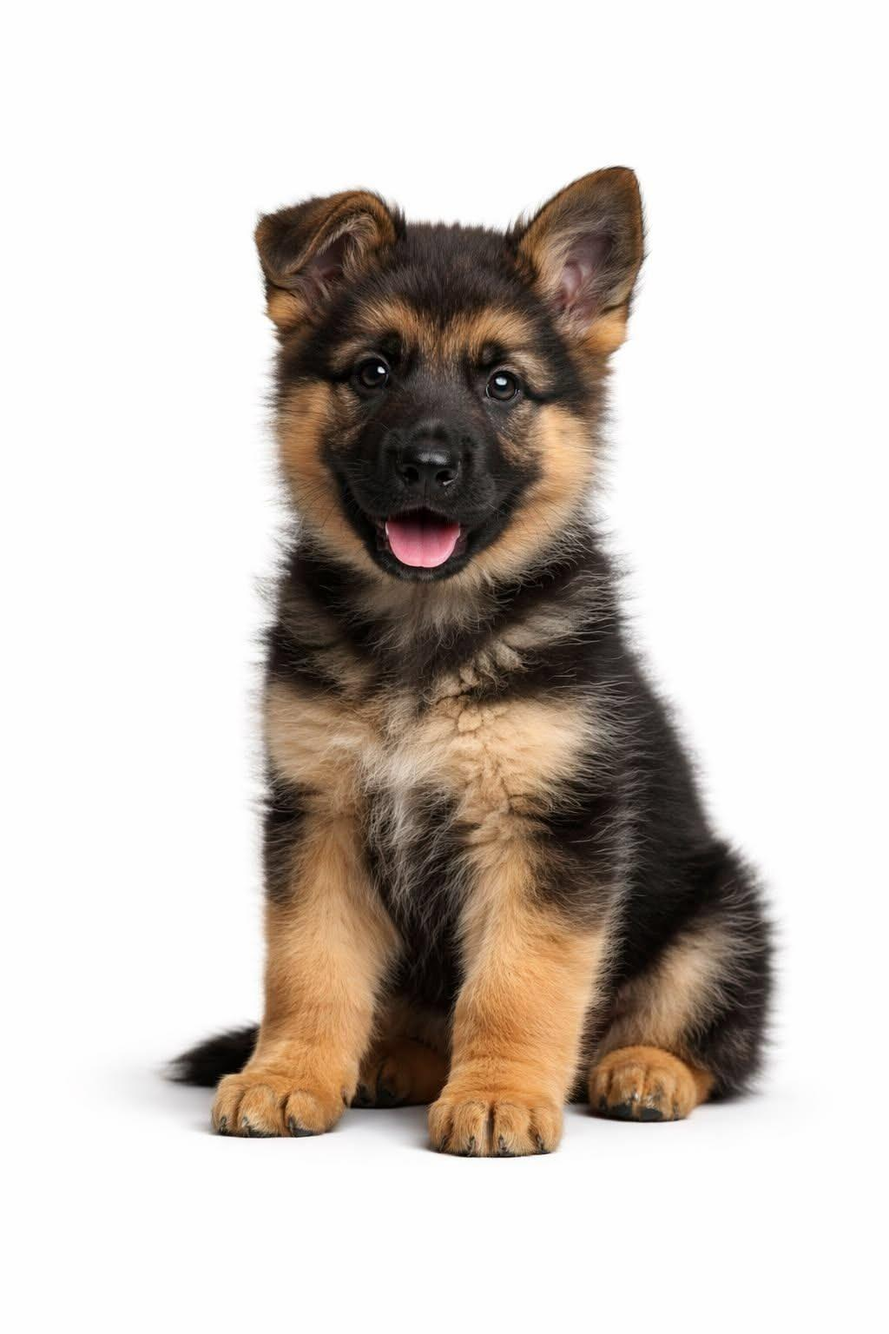puppy-dog: (164, 162, 782, 1159)
